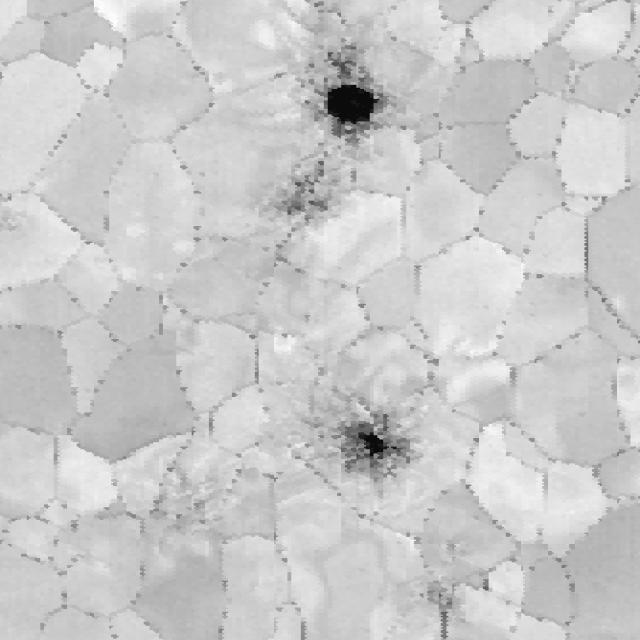good_void: (281, 57, 390, 160), (311, 410, 429, 494), (147, 459, 229, 535), (410, 561, 505, 614), (271, 166, 336, 222)
